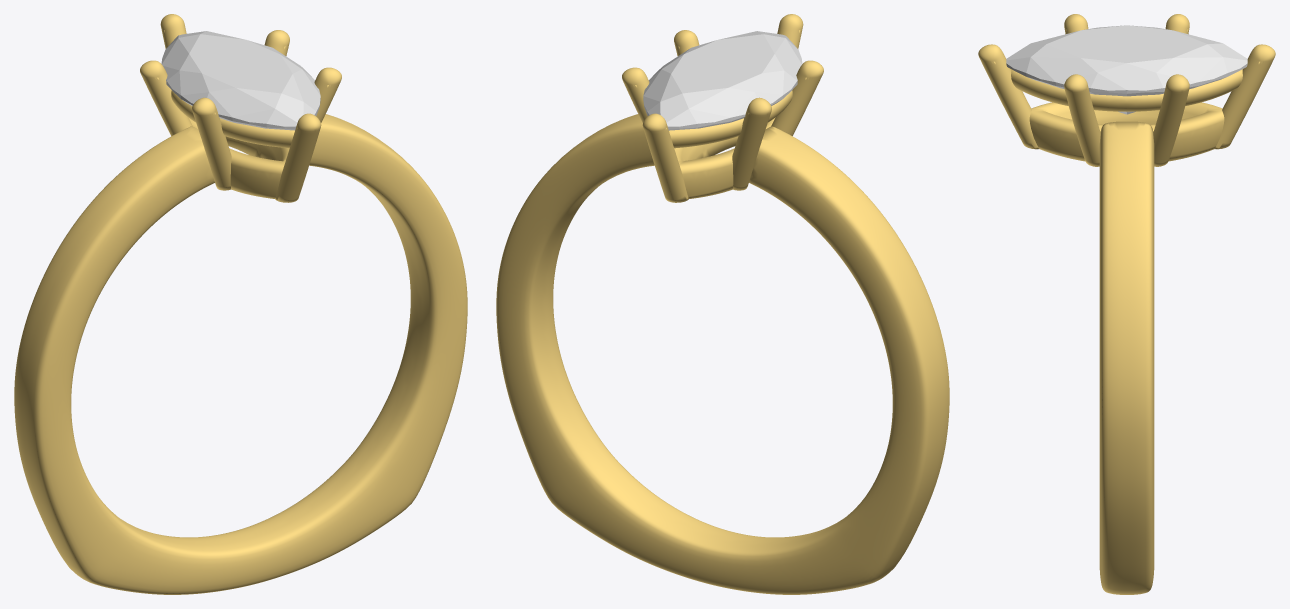
Rendered from diamond-marquise-yellowgold-6prong-europeanshank-nosidestones.glb.
3 renders of one model, left to right at view 1: azimuth 30°, elevation 25°; view 2: azimuth 150°, elevation 25°; view 3: azimuth 270°, elevation 25°, orthographic.
Visible parts, largest first — view 1: metal.001, stone; view 2: metal.001, stone; view 3: metal.001, stone.
Boxes of the visible parts, x1,y1,x2,y2 form: metal.001: (14,14,467,594); stone: (161,31,320,130); metal.001: (496,14,949,594); stone: (643,31,802,130); metal.001: (978,14,1275,594); stone: (1006,25,1247,114).
Size of the model in its own units: 20.1 by 22.73 by 11.96.
